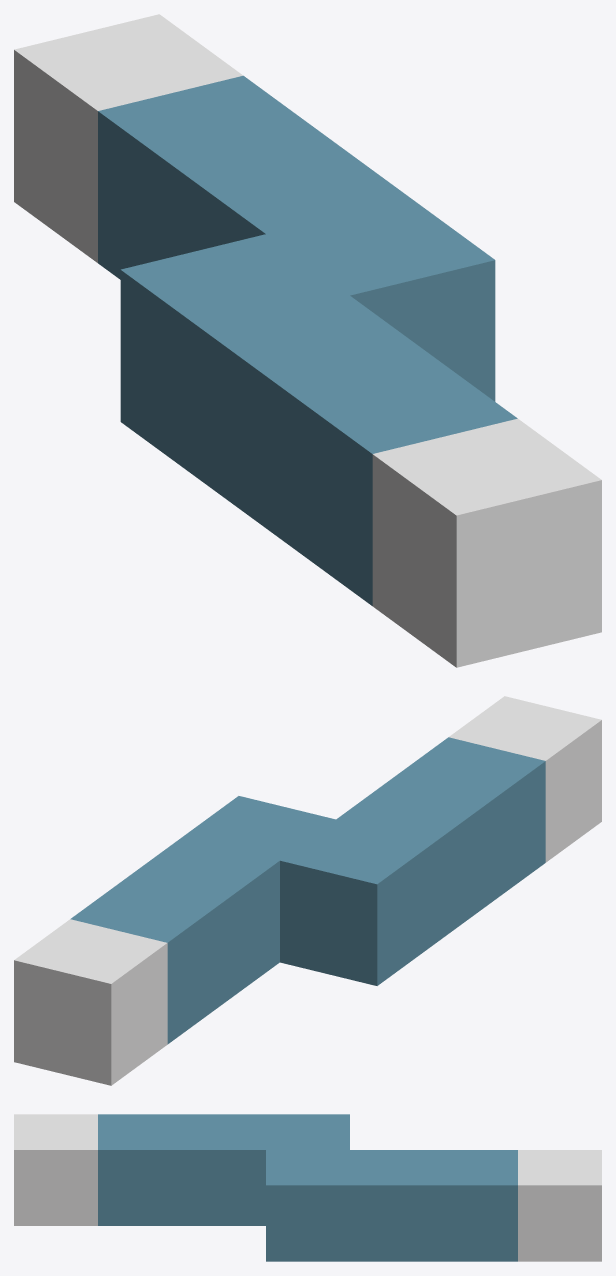
Rendered from Items-7.obj.
3 renders of one model, top to bottom at view 1: azimuth 30°, elevation 25°; view 2: azimuth 150°, elevation 25°; view 3: azimuth 270°, elevation 25°, orthographic. The views are drawn at different scales.
Bounding box in the file's own units: 0.2 × 0.1 × 0.7.
1 material, 1 textured.
